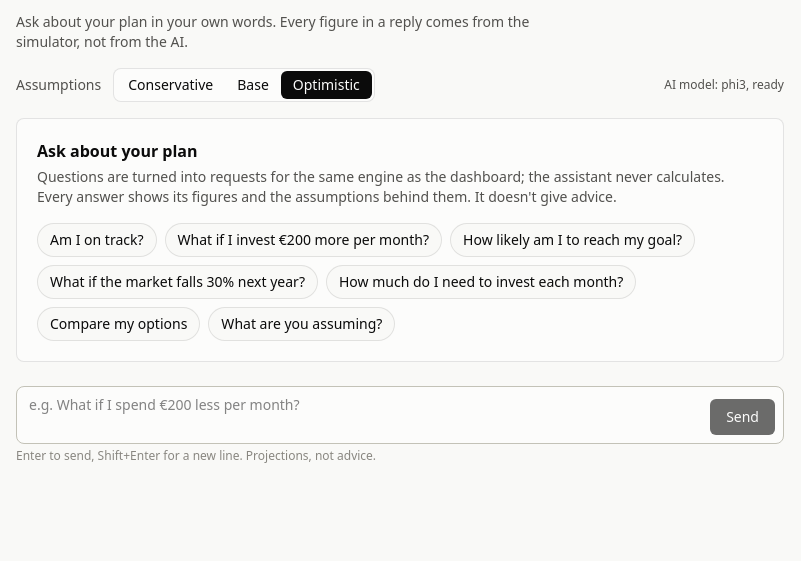
it: Ask page › shows how likely, from simulated futures, with the difference the API computed
In the text box with id "chat-input": (364, 415) 25,395 -> 702,435, type "How likely is that?"
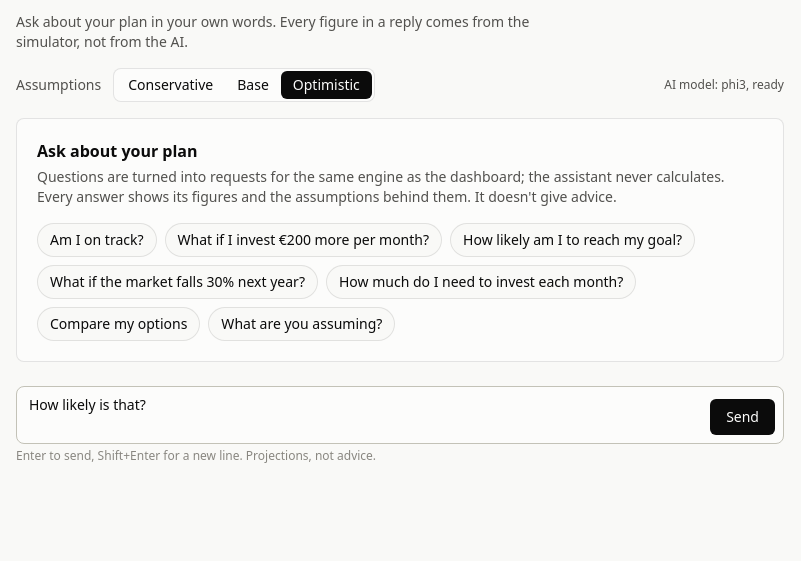
Submit the form, box 16,378 -> 784,480
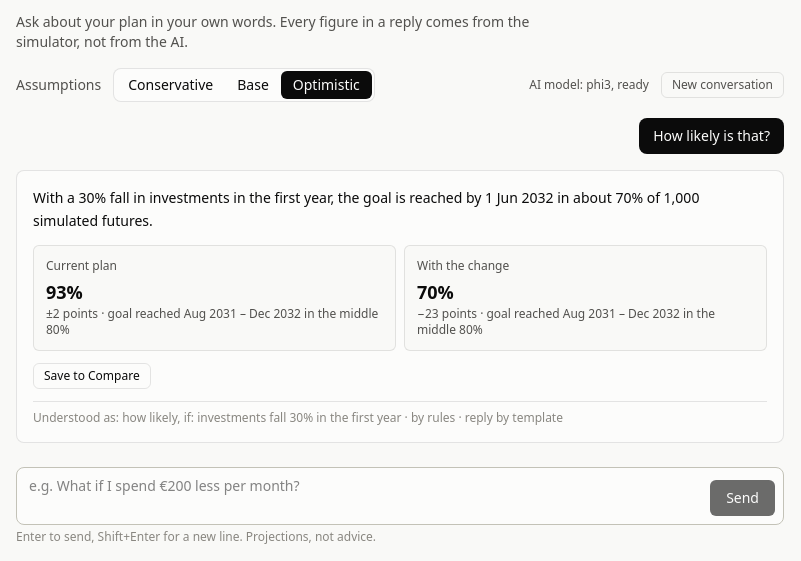
Now the element named "Reply: answered" shows "Understood as: how likely, if: investments fall 30% in the first year", box 33,408 -> 563,426
Now the element named "Reply: answered" shows "93%", box 46,280 -> 83,304
Now the element named "Reply: answered" shows "±2 points", box 46,304 -> 101,322
